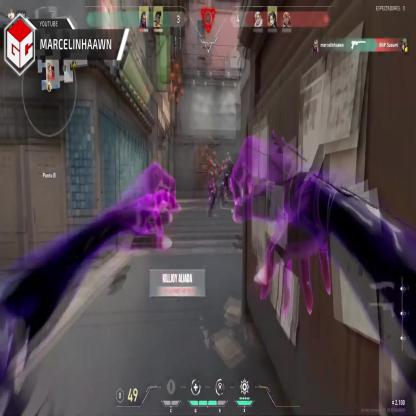enemy: (206, 155, 216, 217), (225, 149, 234, 195), (220, 162, 228, 204)
enemy_head: (209, 158, 213, 167), (226, 152, 230, 159), (222, 160, 225, 166)
